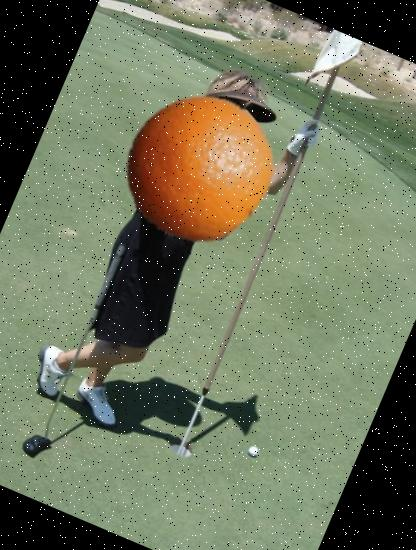Orange: (101, 71, 295, 264)
